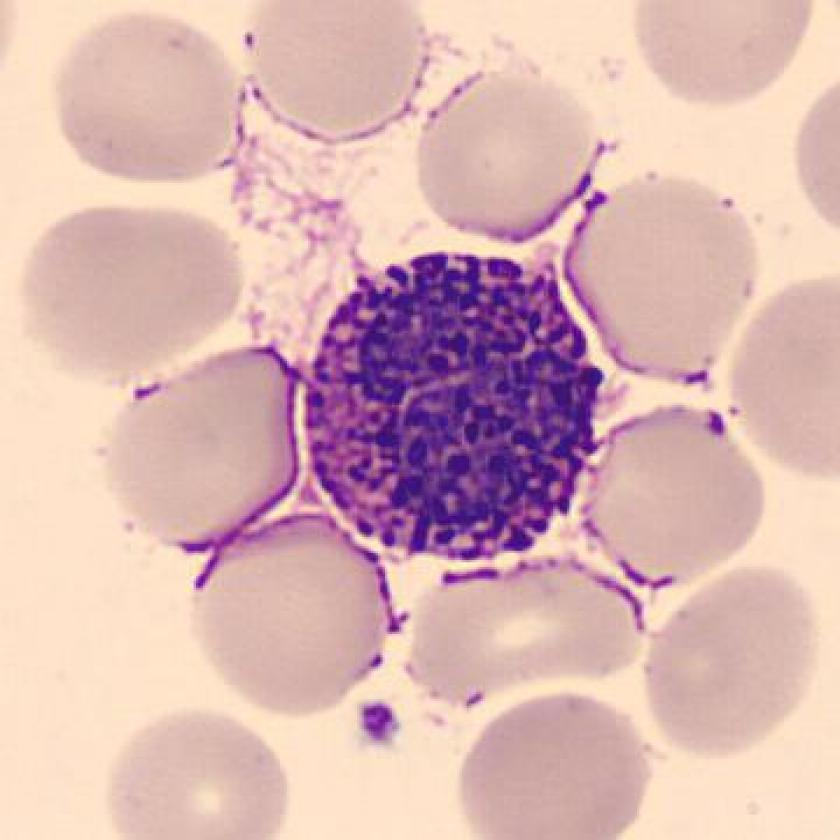basophil: (297, 244, 594, 561)
